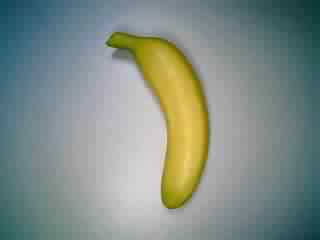banana: (99, 25, 214, 211)
